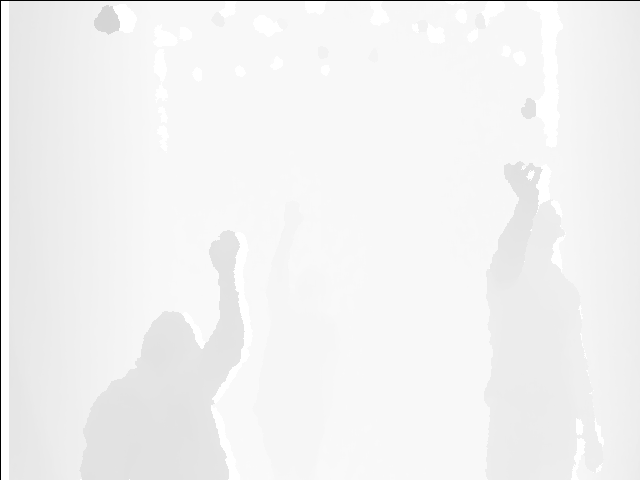hand: (500, 154, 544, 210), (207, 229, 240, 281), (280, 200, 310, 235)
